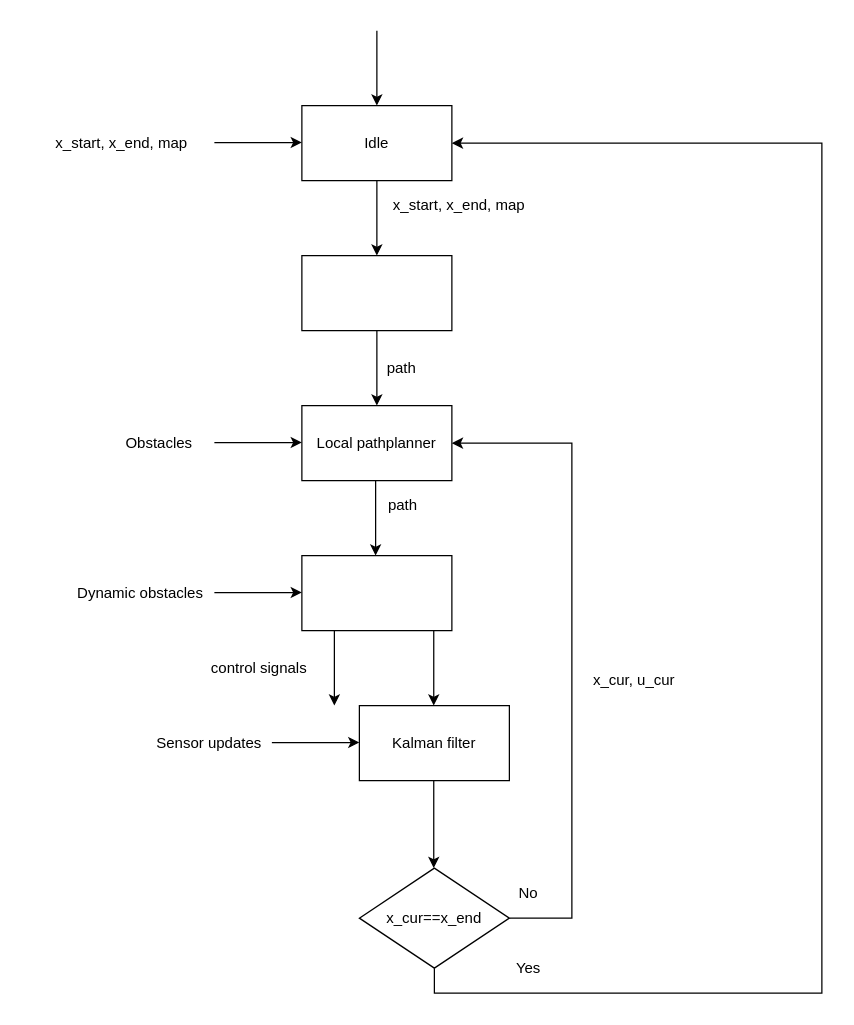
Some shapes in this 854 by 1025 pixel diagram are drawn without their labels. Here are the shapes that lost their labels. From the top down, the centre of each, then its label:
the point at 376,292: Global path planner
the point at 376,592: Trajectory planner
